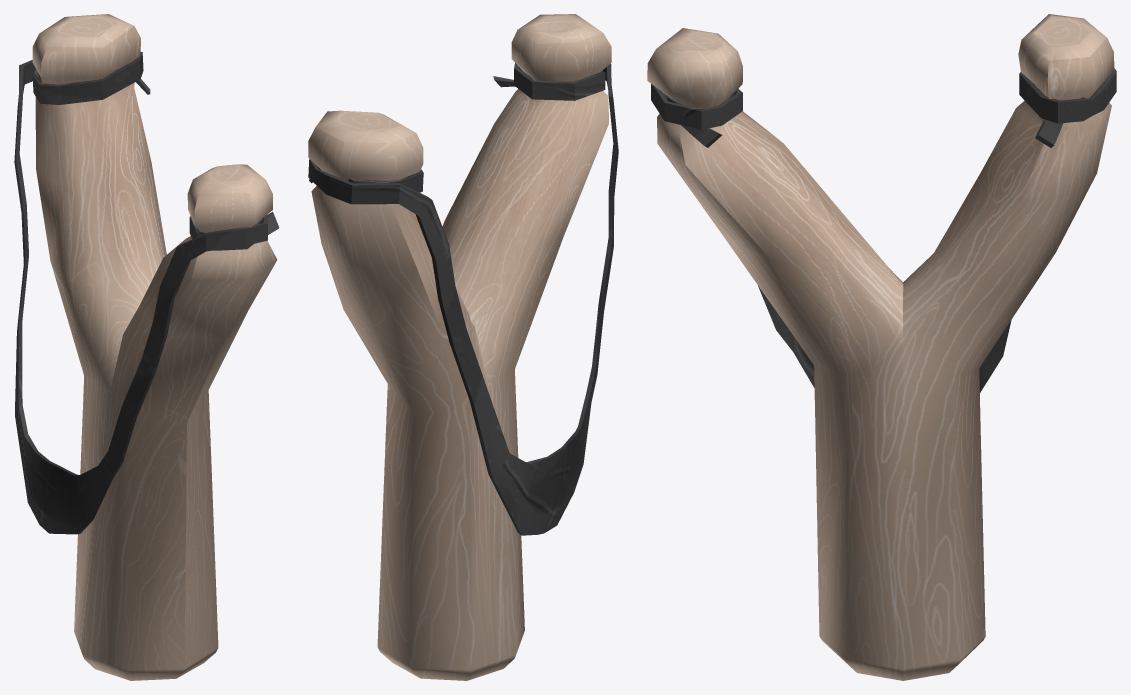
Rendered from Slingshot.fbx.
3 views of the same model, side by side, from view 1: azimuth 30°, elevation 25°; view 2: azimuth 150°, elevation 25°; view 3: azimuth 270°, elevation 25° (orthographic). The views are drawn at different scales.
Visible parts, largest first — view 1: Mesh_0.001, Mesh_1.001; view 2: Mesh_0.001, Mesh_1.001; view 3: Mesh_0.001, Mesh_1.001.
Boxes of the visible parts, x1,y1,x2,y2 form: Mesh_0.001: (32,14,277,680); Mesh_1.001: (14,52,279,534); Mesh_0.001: (308,14,611,680); Mesh_1.001: (308,63,618,535); Mesh_0.001: (647,14,1114,680); Mesh_1.001: (651,68,1116,393).
Size of the model in its own units: 267 by 840 by 564.
Materials: 2 (2 with a texture image).
